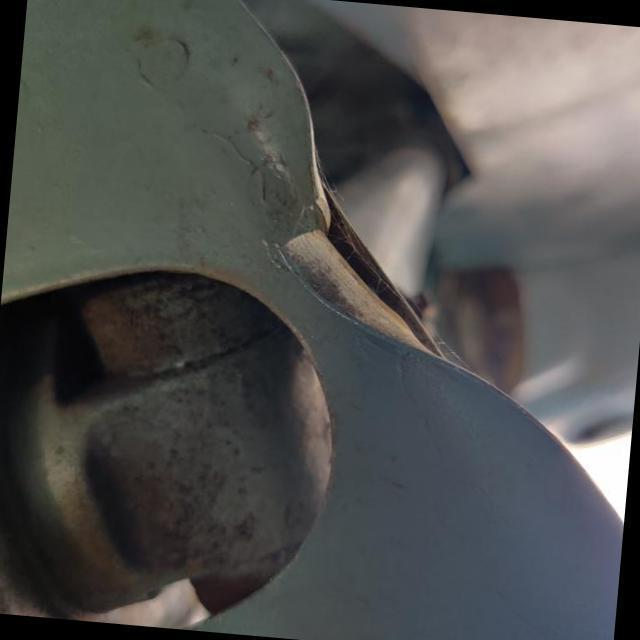Rupture: (262, 198, 349, 275)
